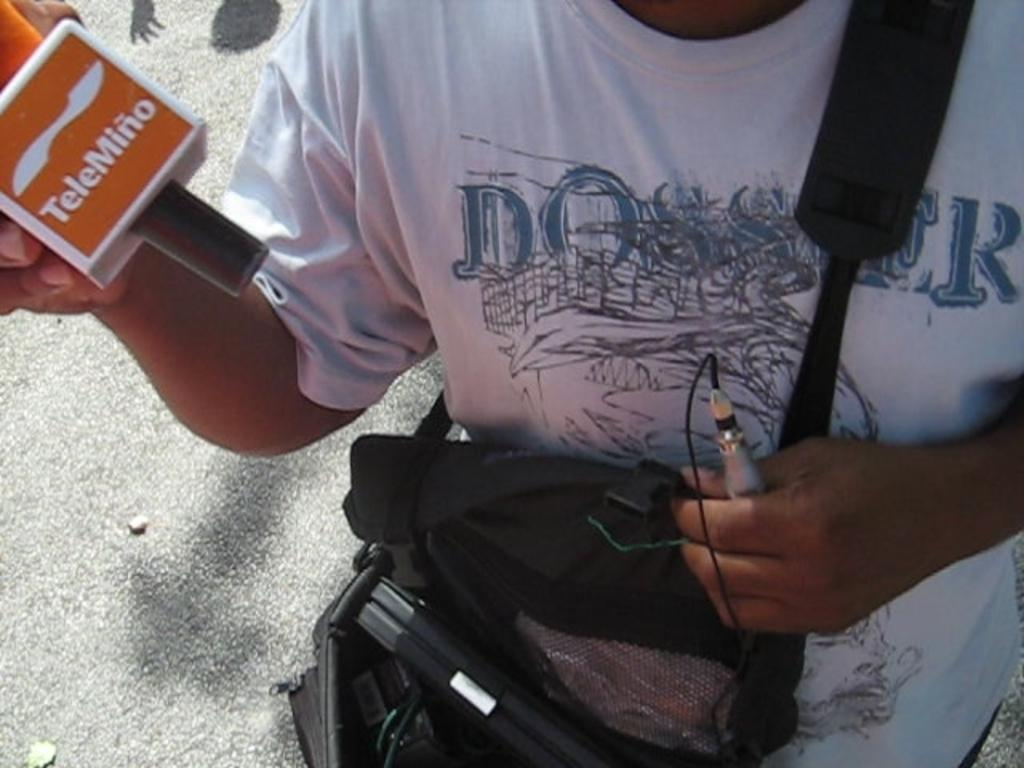Luggage-and-bags: (285, 0, 981, 766)
